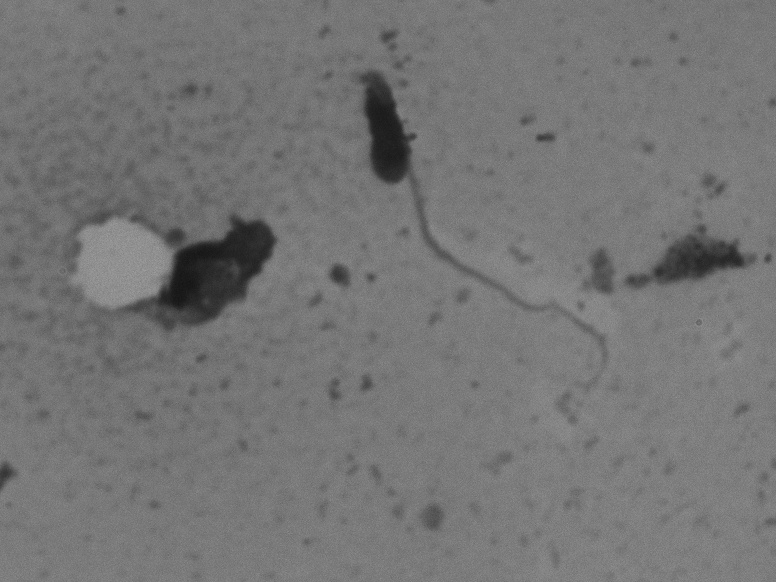Abnormal: (319, 43, 615, 447)
